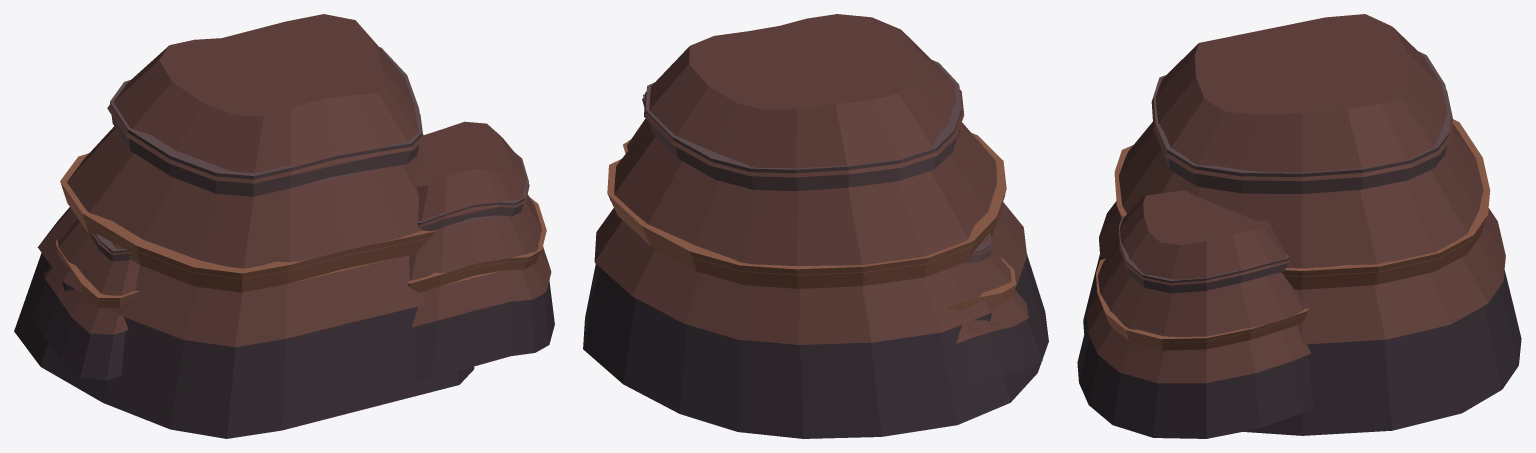
Rendered from landmark_ignis.glb.
3 views of the same model, side by side, from view 1: azimuth 30°, elevation 25°; view 2: azimuth 150°, elevation 25°; view 3: azimuth 270°, elevation 25° (orthographic). The views are drawn at different scales.
Parts seen in each view (by area): view 1: landmark_ignis; view 2: landmark_ignis; view 3: landmark_ignis.
Part boxes in pixels (x1,y1,x2,y2): landmark_ignis: (14, 14, 554, 438); landmark_ignis: (583, 14, 1048, 438); landmark_ignis: (1077, 14, 1521, 438).
Size of the model in its own units: 7.14 by 4.44 by 6.03.
